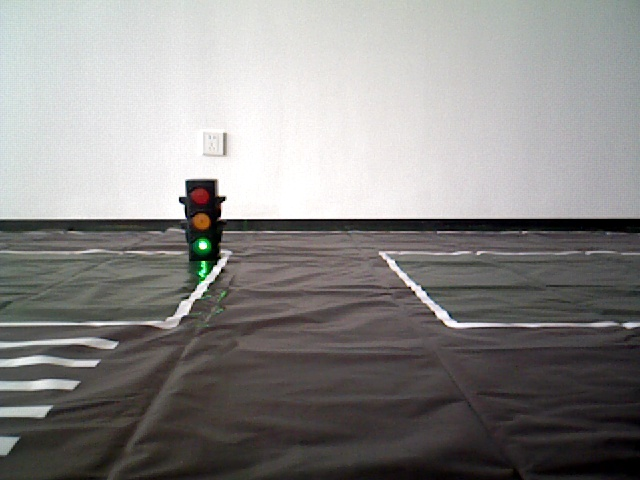green: (185, 182, 220, 255)
